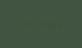eight: (47, 20, 52, 28), (53, 20, 58, 28)
nine: (59, 20, 64, 28)
one: (41, 20, 46, 28)
seven: (17, 19, 22, 27)
two: (29, 19, 34, 27), (35, 19, 40, 27)
zero: (23, 19, 28, 27)
